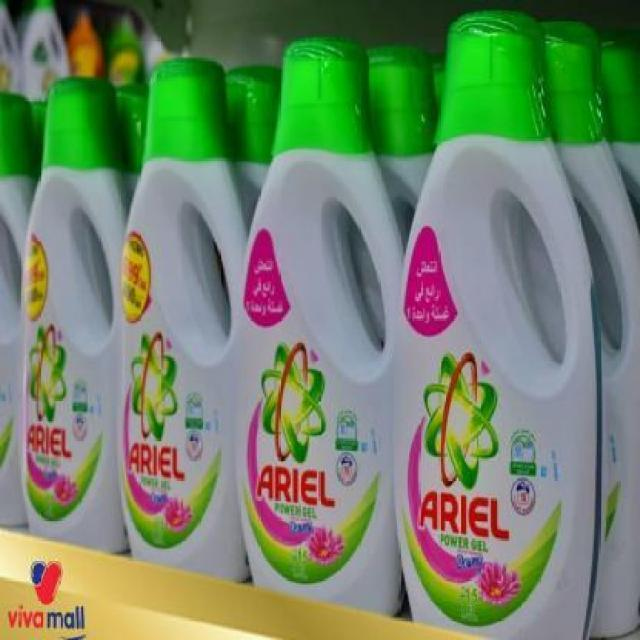Detergent: (395, 10, 603, 632), (232, 29, 398, 607), (107, 59, 243, 576), (21, 76, 123, 550)
